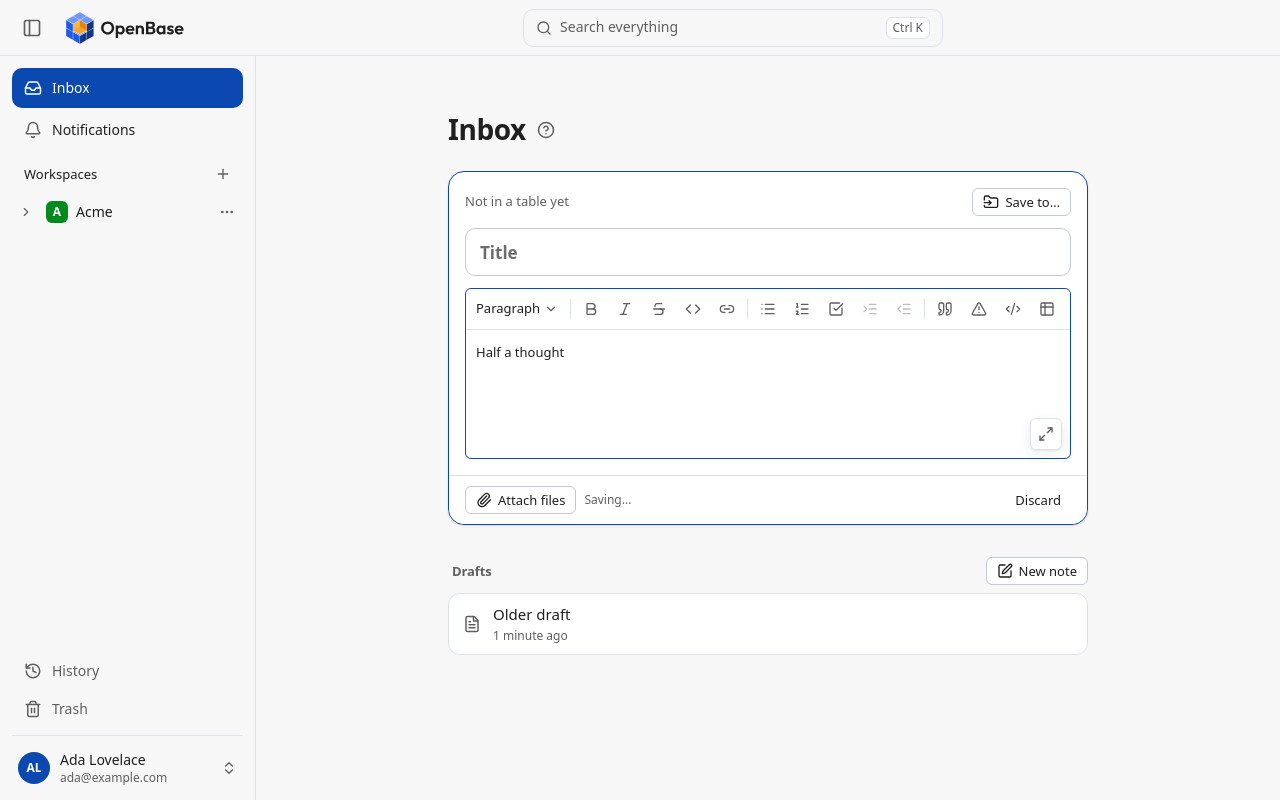
Test: drafts › saves the draft being written before another one opens, and New note starts from an empty box
The width and height of the screenshot is (1280, 800).
Expected: the field named "Note" is shown, left=476, top=343, right=564, bottom=361
What coordinates should you click on to do the following:
click the button "Older draft 1 minute ago"
I would click on:
 (532, 614)
Its box is left=449, top=594, right=1087, bottom=654.
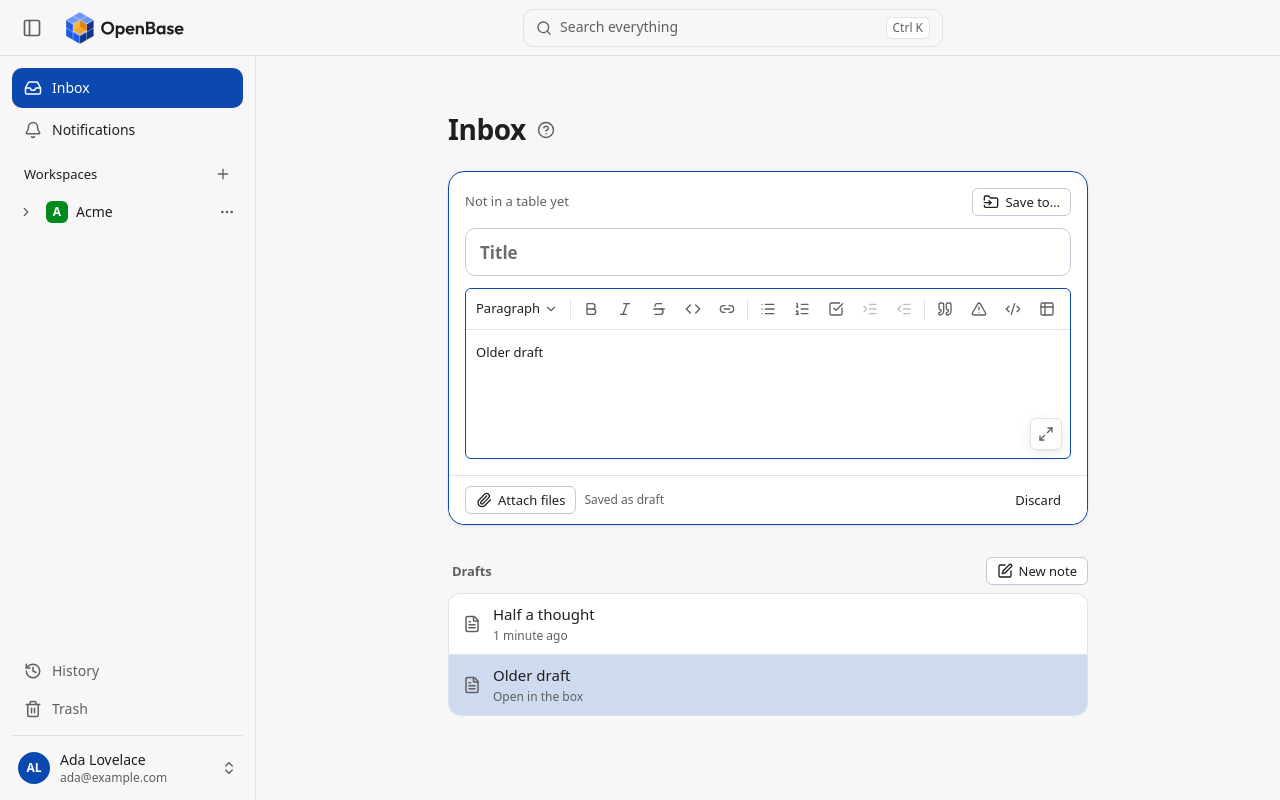
Expected: the field named "Note" reads "Older draft", left=476, top=343, right=543, bottom=361
What coordinates should you click on to do the following:
click the button "New note"
I would click on:
 (1037, 571)
Its box is left=986, top=557, right=1088, bottom=585.
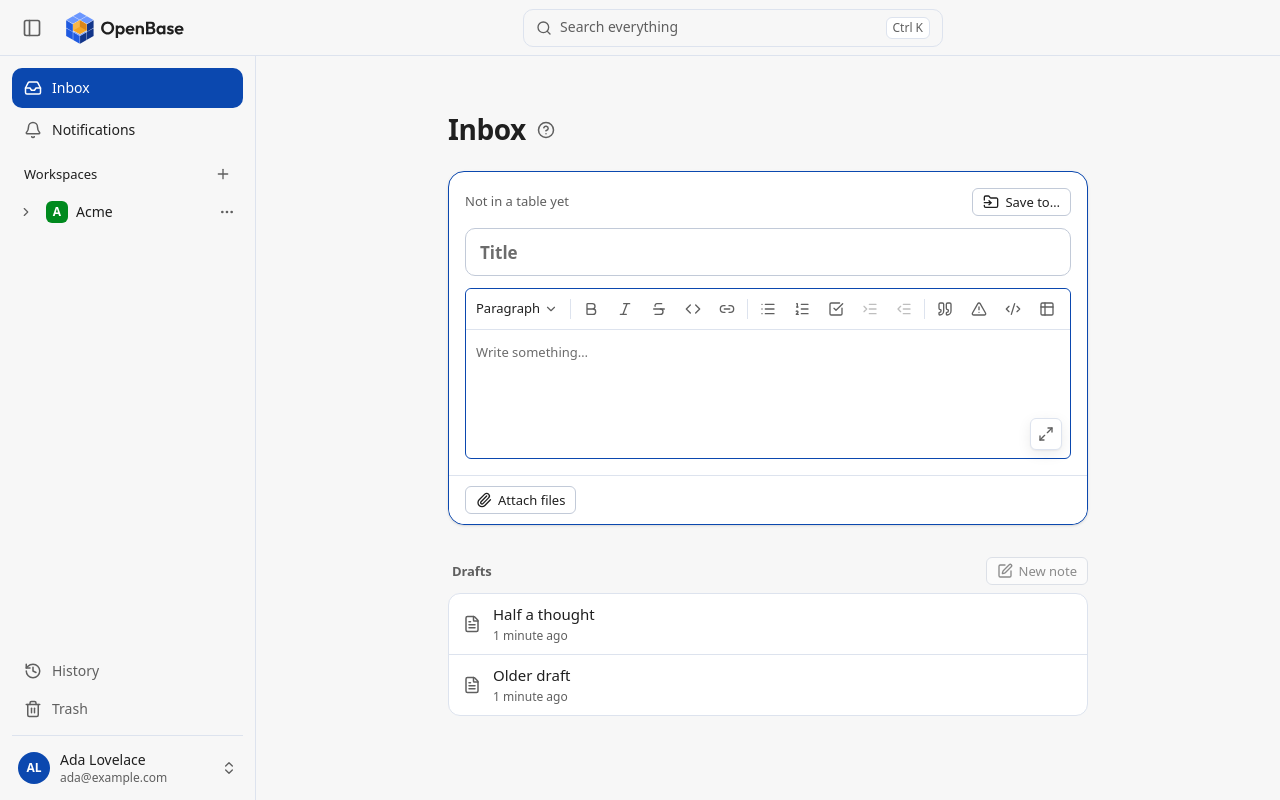
Expected: the field named "Note" does not show "Older draft", left=466, top=330, right=1070, bottom=458
Expected: the button "Half a thought 1 minute ago" is shown, left=449, top=594, right=1087, bottom=654
Expected: the button "New note" is disabled, left=986, top=557, right=1088, bottom=585
